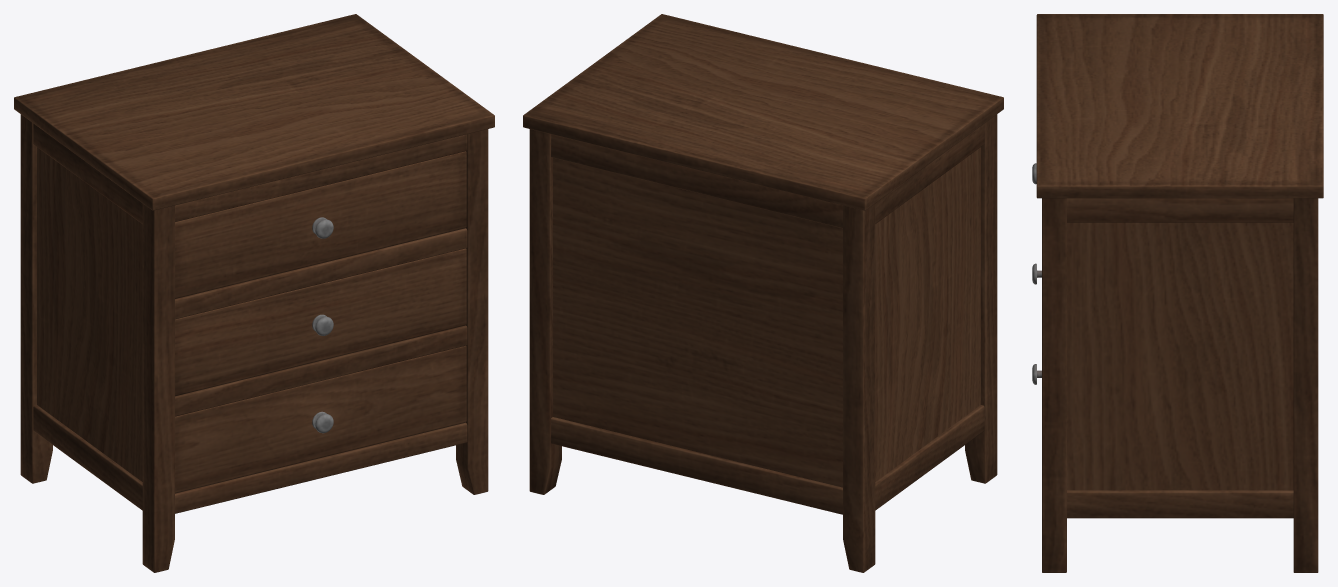
File: small-_wooden-_table.glb
3 renders of one model, left to right at view 1: azimuth 30°, elevation 25°; view 2: azimuth 150°, elevation 25°; view 3: azimuth 270°, elevation 25°, orthographic. The views are drawn at different scales.
Visible parts, largest first — view 1: Small-Wooden-Table; view 2: Small-Wooden-Table; view 3: Small-Wooden-Table.
Boxes of the visible parts, x1,y1,x2,y2 form: Small-Wooden-Table: [14, 14, 494, 572]; Small-Wooden-Table: [523, 14, 1003, 572]; Small-Wooden-Table: [1032, 14, 1323, 572].
Size of the model in its own units: 0.7858 by 0.8274 by 0.5609.
Materials: 2 (2 with a texture image).
